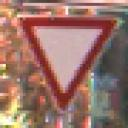preferencia: (14, 10, 120, 112)
